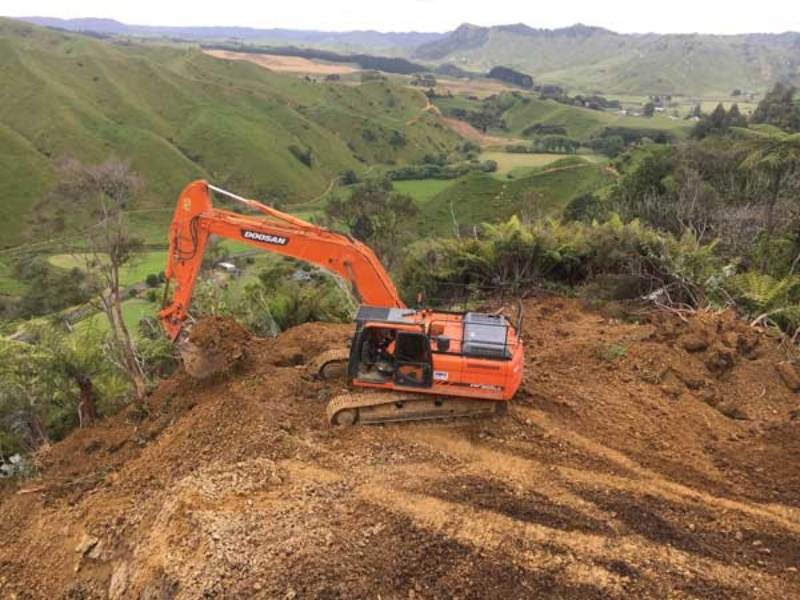excavator: (146, 178, 529, 429)
